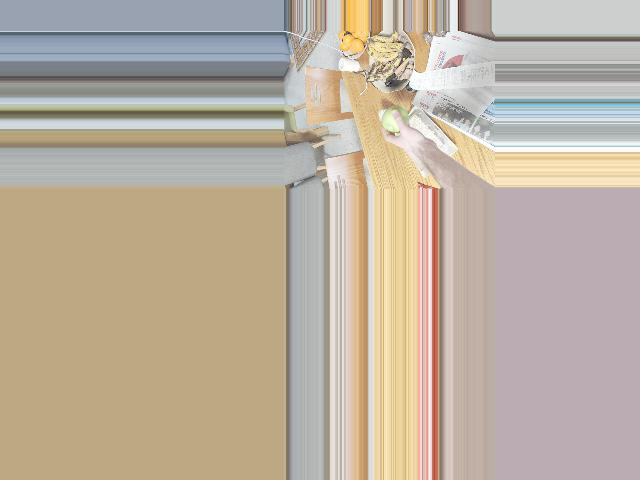apple: (380, 106, 410, 134)
